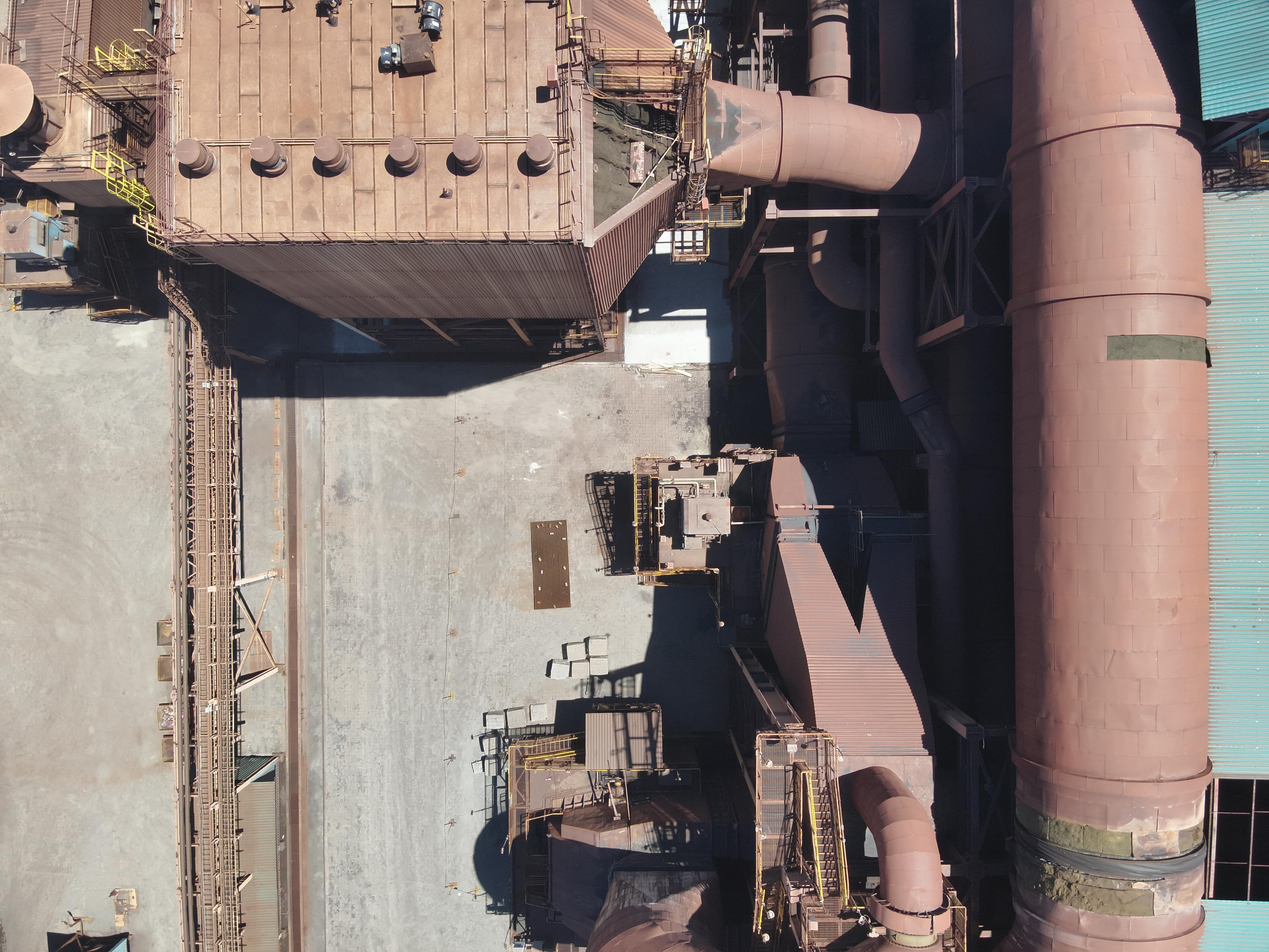Failures: (590, 85, 683, 231), (1010, 803, 1136, 865), (1010, 871, 1158, 917), (1107, 332, 1218, 372), (1141, 815, 1208, 858)
